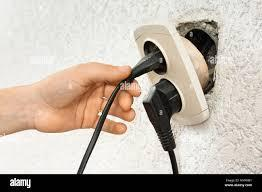broken socket: (134, 19, 219, 125)
